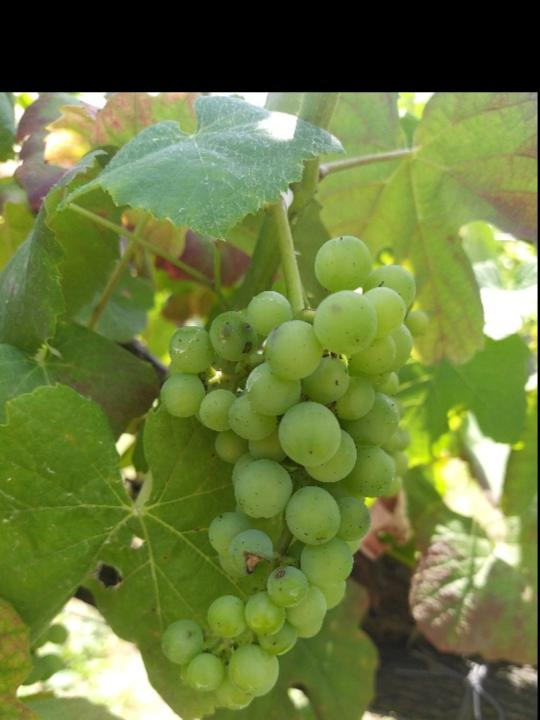grape: (160, 231, 434, 714)
